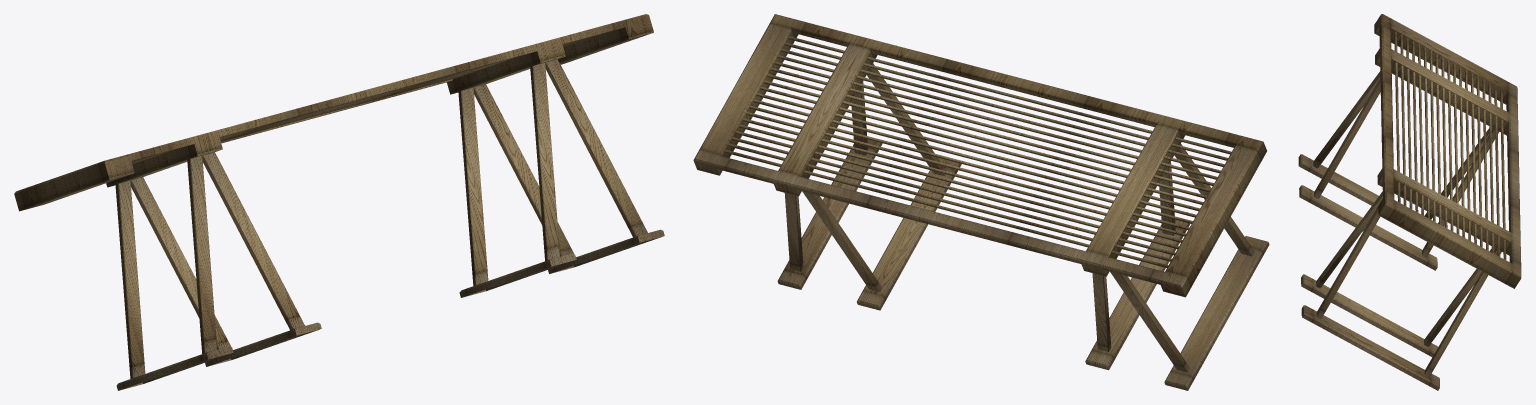
3 views of the same model, side by side, from view 1: azimuth 30°, elevation 25°; view 2: azimuth 150°, elevation 25°; view 3: azimuth 270°, elevation 25° (orthographic). The views are drawn at different scales.
Parts seen in each view (by area): view 1: 筝架; view 2: 筝架; view 3: 筝架.
Boxes of the visible parts, x1,y1,x2,y2 form: 筝架: [14, 14, 664, 390]; 筝架: [693, 14, 1269, 390]; 筝架: [1298, 14, 1521, 390].
Size of the model in its own units: 1332 by 648 by 628.
1 material, 1 textured.
